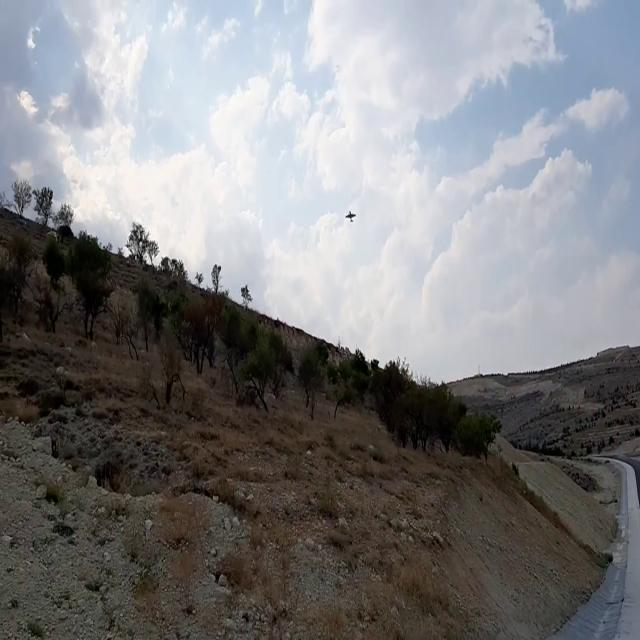iha: (348, 210, 353, 223)
